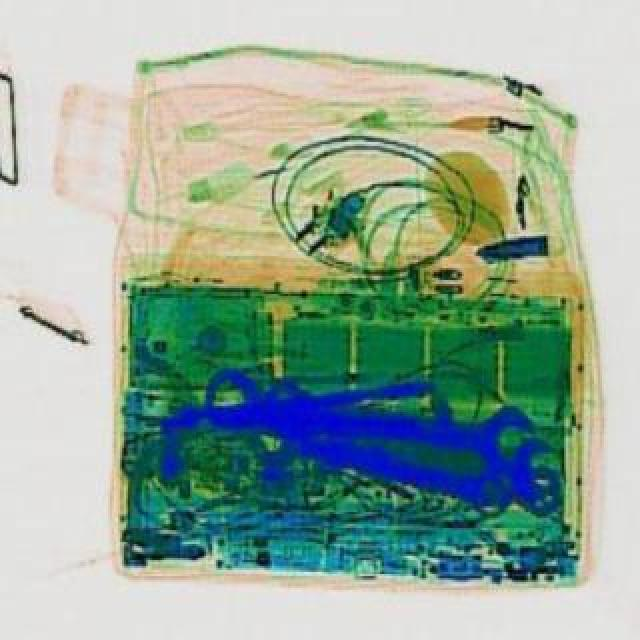scissors: (198, 344, 538, 476)
